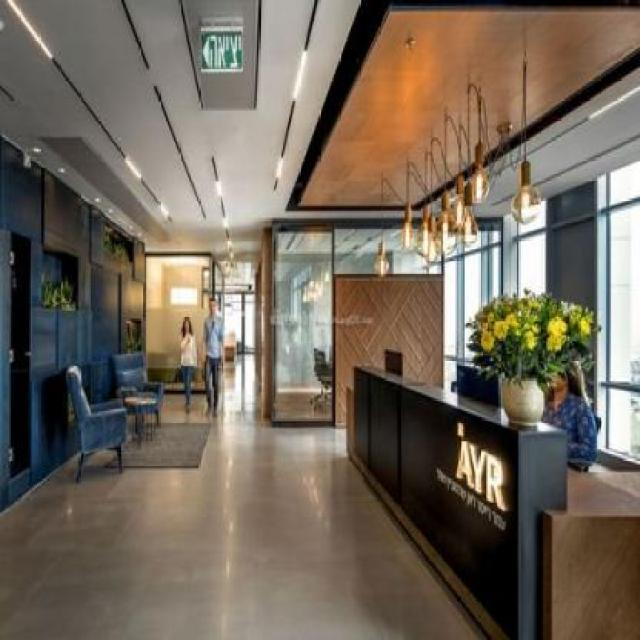frontdesk: (338, 349, 640, 640)
